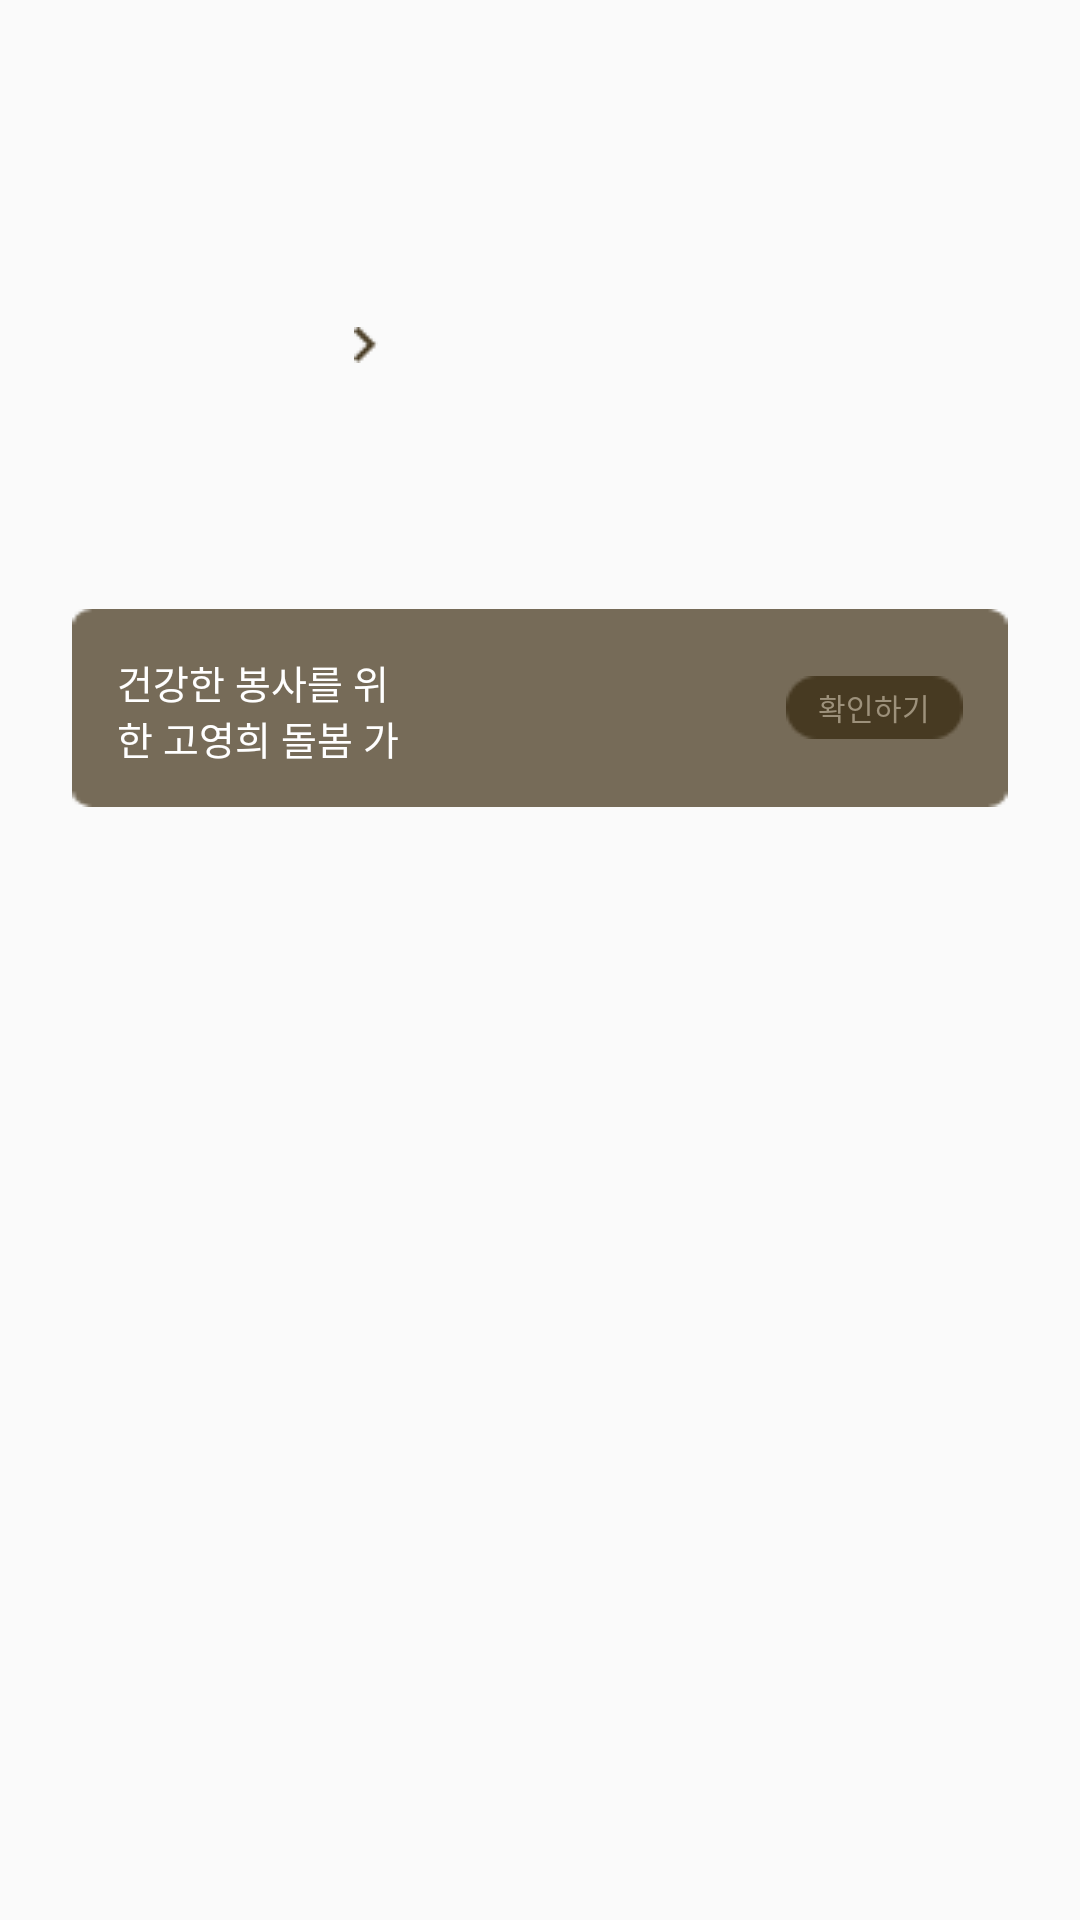

Icons on this 1080*1920 Android screen, each with the point to tap as point (x, y):
arrow: point (365, 345)
